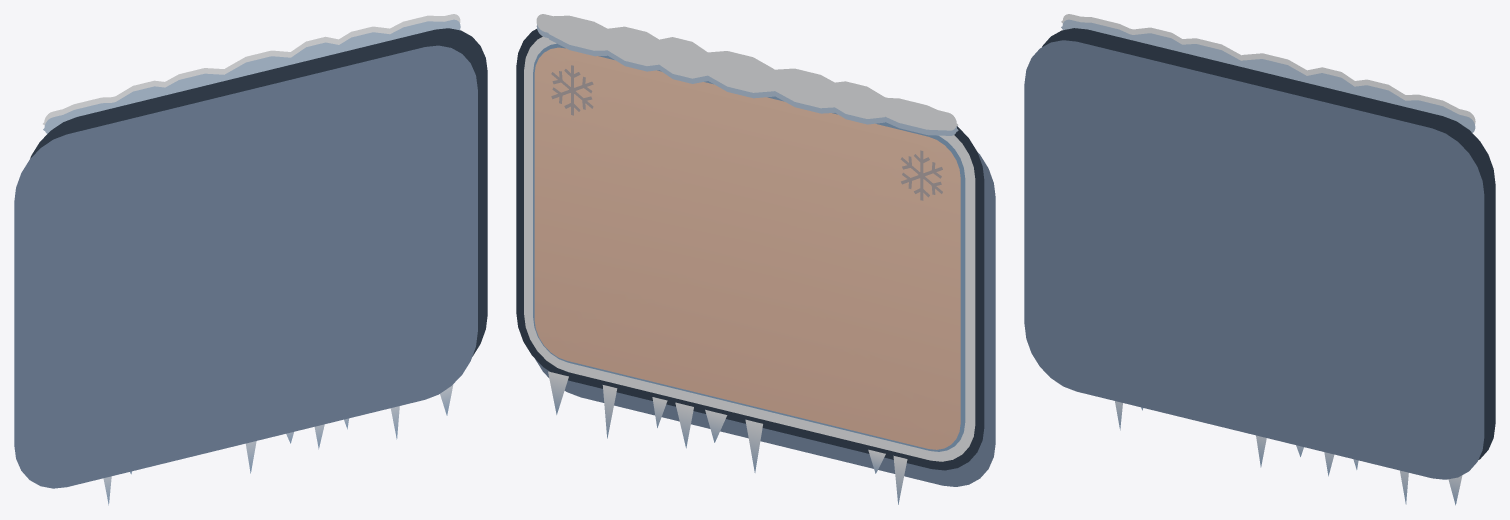
File: ui_card_peach.glb
3 renders of one model, left to right at view 1: azimuth 30°, elevation 25°; view 2: azimuth 150°, elevation 25°; view 3: azimuth 330°, elevation 25°, orthographic.
Parts seen in each view (by area): view 1: ui_card_peach; view 2: ui_card_peach; view 3: ui_card_peach.
Boxes of the visible parts, left/top/right/bottom form: ui_card_peach: left=14, top=14, right=487, bottom=505; ui_card_peach: left=516, top=14, right=995, bottom=504; ui_card_peach: left=1024, top=14, right=1495, bottom=505.
Size of the model in its own units: 0.45 by 0.3791 by 0.007.
